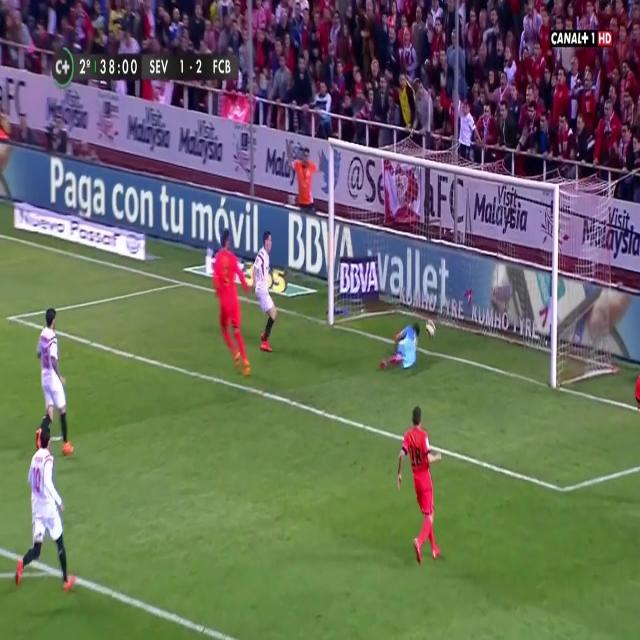Ball: (423, 314, 437, 341)
Goalkeeper: (377, 320, 423, 377)
Player: (12, 428, 78, 596), (395, 407, 444, 568), (30, 300, 77, 460), (212, 225, 251, 378), (251, 230, 278, 356)
